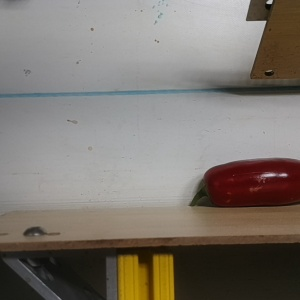Cut Point: (194, 166, 225, 207)
